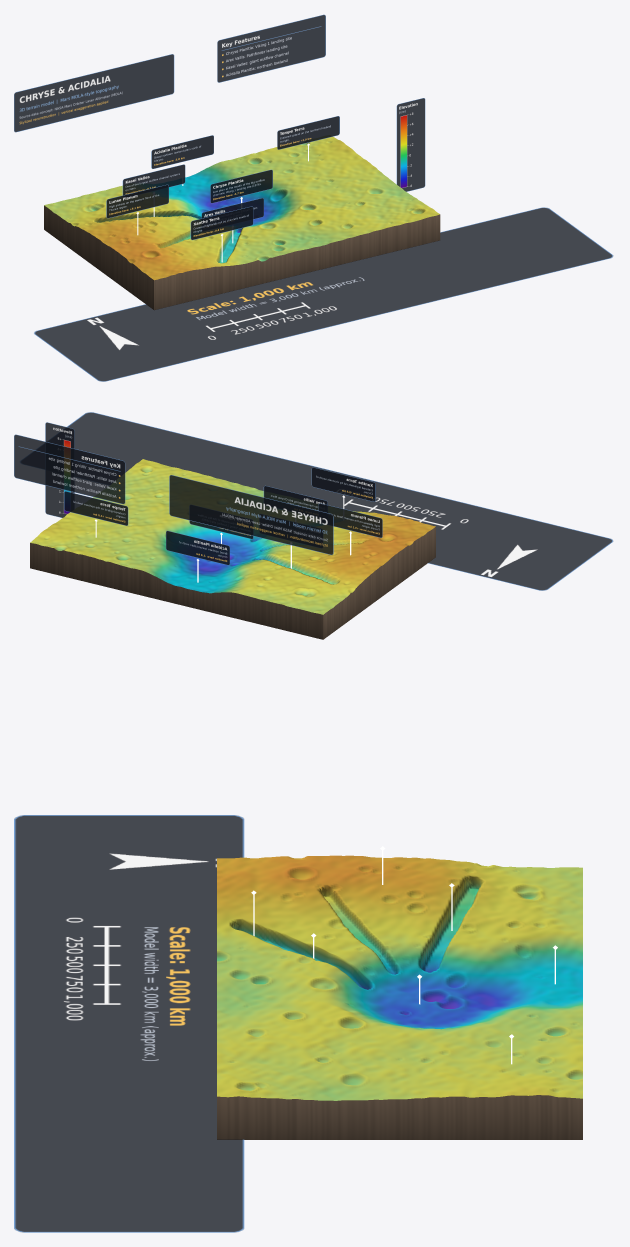
Rendered from 10_Chryse_Acidalia.glb.
3 views of the same model, one above another, from view 1: azimuth 30°, elevation 25°; view 2: azimuth 150°, elevation 25°; view 3: azimuth 270°, elevation 25° (orthographic). The views are drawn at different scales.
Parts seen in each view (by area): view 1: Info_ScaleAndCompass, Terrain_Surface, Terrain_Walls, Info_Title, Info_KeyFeatures, Info_ElevationLegend, Label_Xanthe Terra, Label_Chryse Planitia, Label_Lunae Planum, Label_Tempe Terra, Label_Acidalia Planitia, Label_Kasei Valles (+1 smaller); view 2: Terrain_Surface, Info_ScaleAndCompass, Terrain_Walls, Info_Title, Info_KeyFeatures, Info_ElevationLegend, Label_Xanthe Terra, Label_Tempe Terra, Label_Acidalia Planitia, Label_Lunae Planum, Label_Chryse Planitia, Label_Ares Vallis (+1 smaller); view 3: Info_ScaleAndCompass, Terrain_Surface, Terrain_Walls.
Boxes of the visible parts, left/top/right/bottom form: Info_ScaleAndCompass: left=34, top=207, right=613, bottom=381; Terrain_Surface: left=44, top=136, right=439, bottom=280; Terrain_Walls: left=44, top=205, right=440, bottom=310; Info_Title: left=14, top=54, right=174, bottom=132; Info_KeyFeatures: left=217, top=14, right=325, bottom=82; Info_ElevationLegend: left=396, top=98, right=425, bottom=191; Label_Xanthe Terra: left=190, top=206, right=253, bottom=240; Label_Chryse Planitia: left=210, top=169, right=272, bottom=203; Label_Lunae Planum: left=106, top=184, right=168, bottom=218; Label_Tempe Terra: left=277, top=116, right=339, bottom=149; Label_Acidalia Planitia: left=151, top=135, right=213, bottom=168; Label_Kasei Valles: left=122, top=164, right=185, bottom=195; Terrain_Surface: left=30, top=459, right=435, bottom=614; Info_ScaleAndCompass: left=23, top=412, right=613, bottom=590; Terrain_Walls: left=30, top=527, right=435, bottom=639; Info_Title: left=169, top=475, right=333, bottom=555; Info_KeyFeatures: left=14, top=434, right=125, bottom=504; Info_ElevationLegend: left=45, top=422, right=74, bottom=517; Label_Xanthe Terra: left=311, top=467, right=375, bottom=501; Label_Tempe Terra: left=64, top=491, right=128, bottom=525; Label_Acidalia Planitia: left=166, top=530, right=229, bottom=565; Label_Lunae Planum: left=318, top=503, right=382, bottom=537; Label_Chryse Planitia: left=189, top=505, right=253, bottom=539; Label_Ares Vallis: left=263, top=485, right=327, bottom=515; Info_ScaleAndCompass: left=14, top=815, right=244, bottom=1232; Terrain_Surface: left=217, top=855, right=582, bottom=1100; Terrain_Walls: left=217, top=1095, right=582, bottom=1139.
Bounding box in the file's own units: 18 × 4.57 × 10.97.
13 materials, 11 textured.
